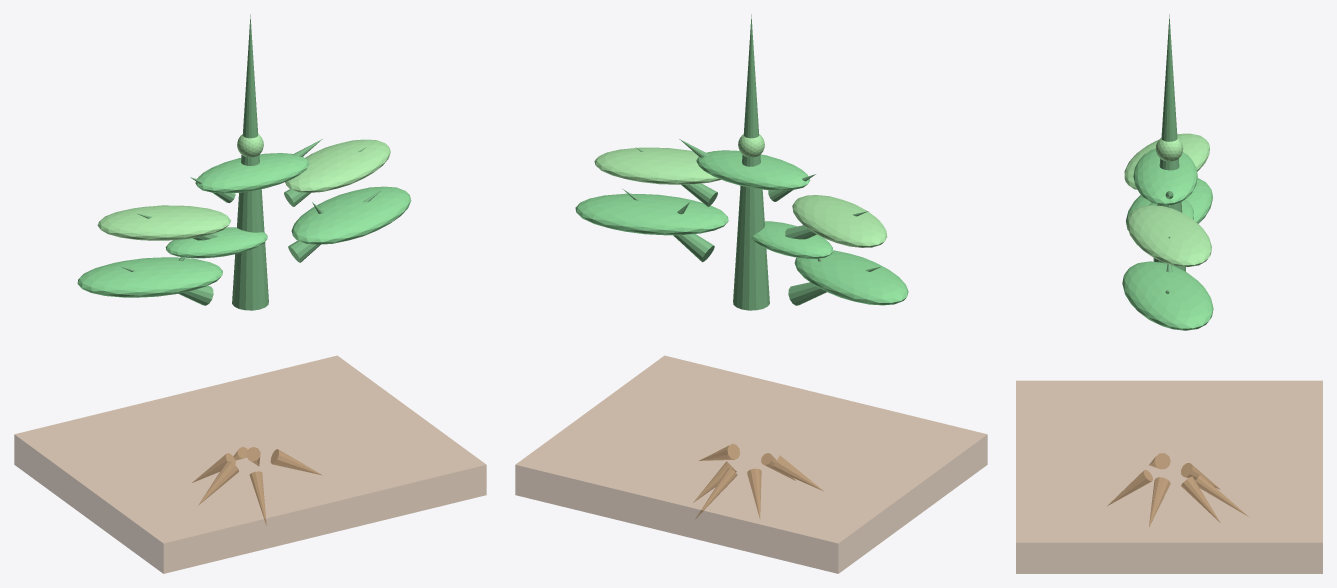
The model's file is tanaman_fotosintesis_3d.glb.
3 views of the same model, side by side, from view 1: azimuth 30°, elevation 25°; view 2: azimuth 150°, elevation 25°; view 3: azimuth 270°, elevation 25° (orthographic). The views are drawn at different scales.
Parts seen in each view (by area): view 1: Tanah, Daun_2, Daun_1, Batang utama, Daun_3, Daun_4, Daun_5, Daun_6; view 2: Tanah, Daun_2, Batang utama, Daun_1, Daun_4, Daun_3, Daun_5, Daun_6, Cabang_2, Cabang_1; view 3: Tanah, Daun_2, Daun_4, Daun_5, Batang utama, Daun_3, Daun_1, Bunga, Akar_2, Akar_4, Akar_5, Akar_6.
Part boxes in pixels (bbox=[...]): Tanah: bbox=[14, 355, 486, 573]; Daun_2: bbox=[291, 186, 411, 244]; Daun_1: bbox=[77, 257, 222, 297]; Batang utama: bbox=[232, 14, 268, 310]; Daun_3: bbox=[97, 205, 231, 240]; Daun_4: bbox=[285, 139, 390, 192]; Daun_5: bbox=[195, 153, 309, 193]; Daun_6: bbox=[165, 227, 267, 258]; Tanah: bbox=[515, 355, 987, 573]; Daun_2: bbox=[575, 193, 728, 235]; Batang utama: bbox=[733, 14, 769, 310]; Daun_1: bbox=[794, 250, 908, 305]; Daun_4: bbox=[594, 147, 721, 184]; Daun_3: bbox=[792, 195, 887, 247]; Daun_5: bbox=[696, 150, 810, 190]; Daun_6: bbox=[751, 221, 833, 258]; Cabang_2: bbox=[622, 188, 714, 262]; Cabang_1: bbox=[788, 266, 880, 305]; Tanah: bbox=[1016, 380, 1322, 573]; Daun_2: bbox=[1122, 261, 1213, 330]; Daun_4: bbox=[1127, 205, 1211, 266]; Daun_5: bbox=[1133, 149, 1197, 205]; Batang utama: bbox=[1153, 14, 1185, 271]; Daun_3: bbox=[1124, 133, 1209, 189]; Daun_1: bbox=[1126, 178, 1212, 230]; Bunga: bbox=[1155, 137, 1183, 161]; Akar_2: bbox=[1149, 477, 1170, 526]; Akar_4: bbox=[1181, 476, 1220, 522]; Akar_5: bbox=[1108, 470, 1152, 505]; Akar_6: bbox=[1195, 475, 1248, 516].
Size of the model in its own units: 5.06 by 7.2 by 4.
